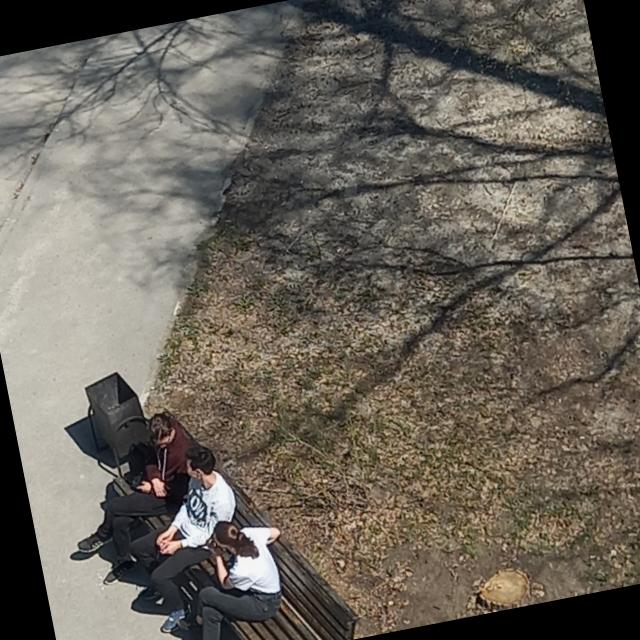person: (56, 408, 218, 588), (111, 440, 258, 636), (168, 509, 303, 640)
